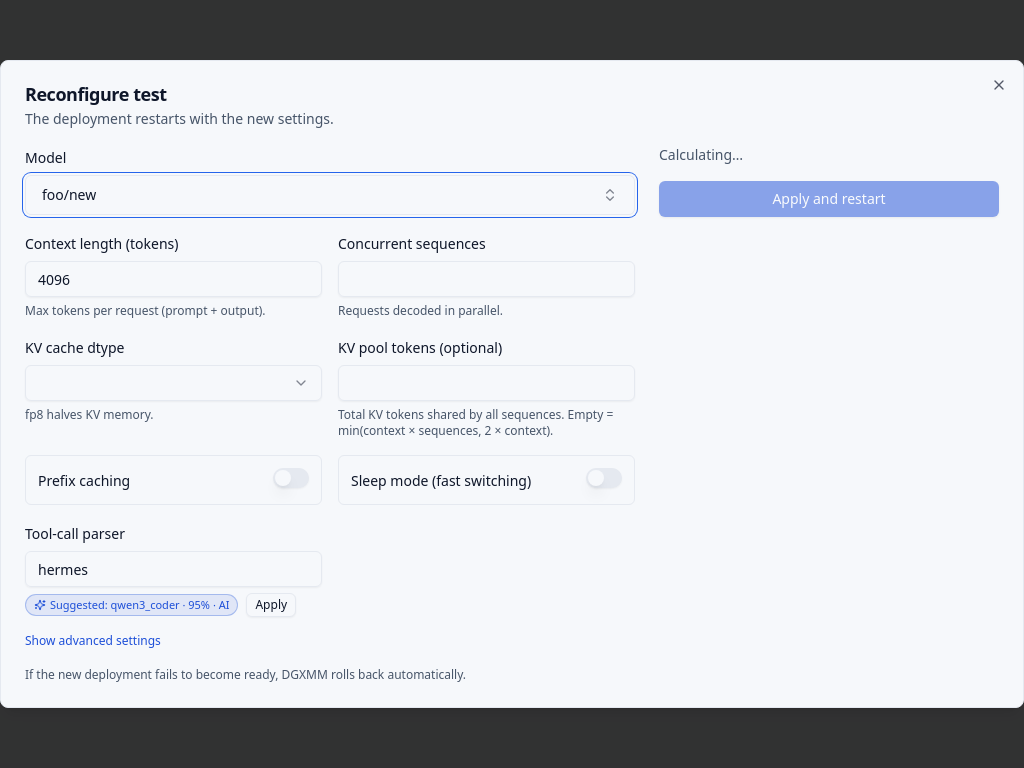
Scenario: SwitchDialog — parser suggestions › keeps the configured parser and offers Apply instead
Check: the text "Suggested: qwen3_coder · 95% · AI" is shown, box [25, 594, 238, 616]
Check: the field labelled "Tool-call parser" holds "hermes", box [25, 551, 322, 587]
Click the button with aria-label "Apply suggested Tool-call parser: qwen3_coder": (271, 605) [246, 593, 296, 617]
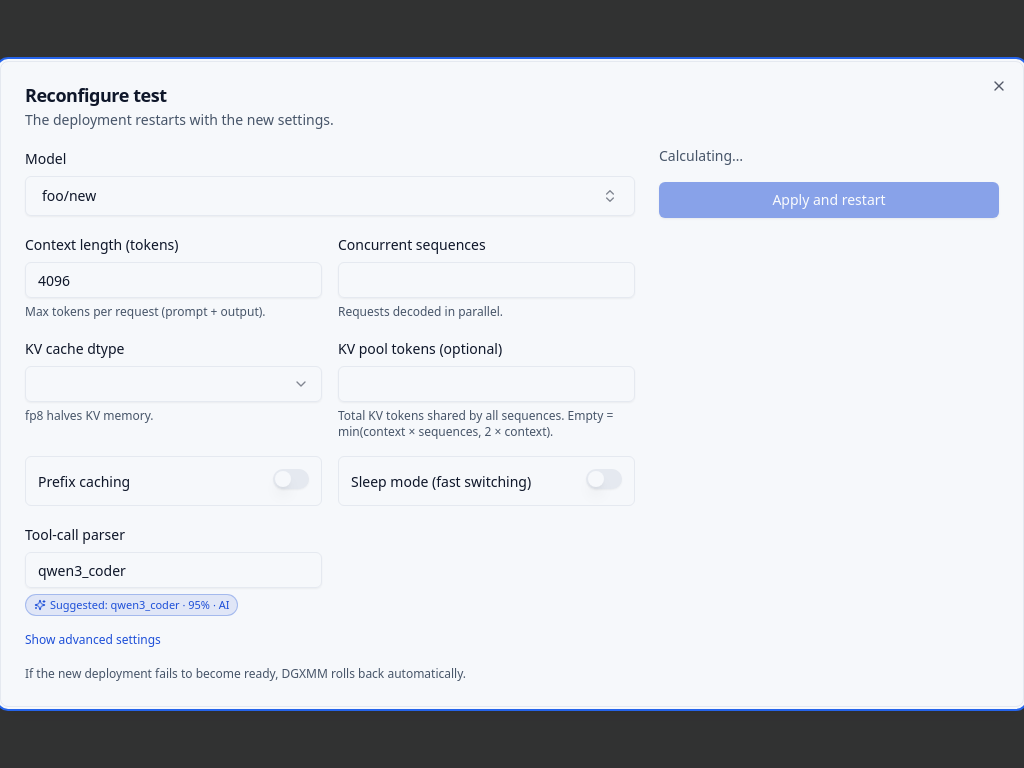
Check: the field labelled "Tool-call parser" holds "qwen3_coder", box [25, 552, 322, 588]
